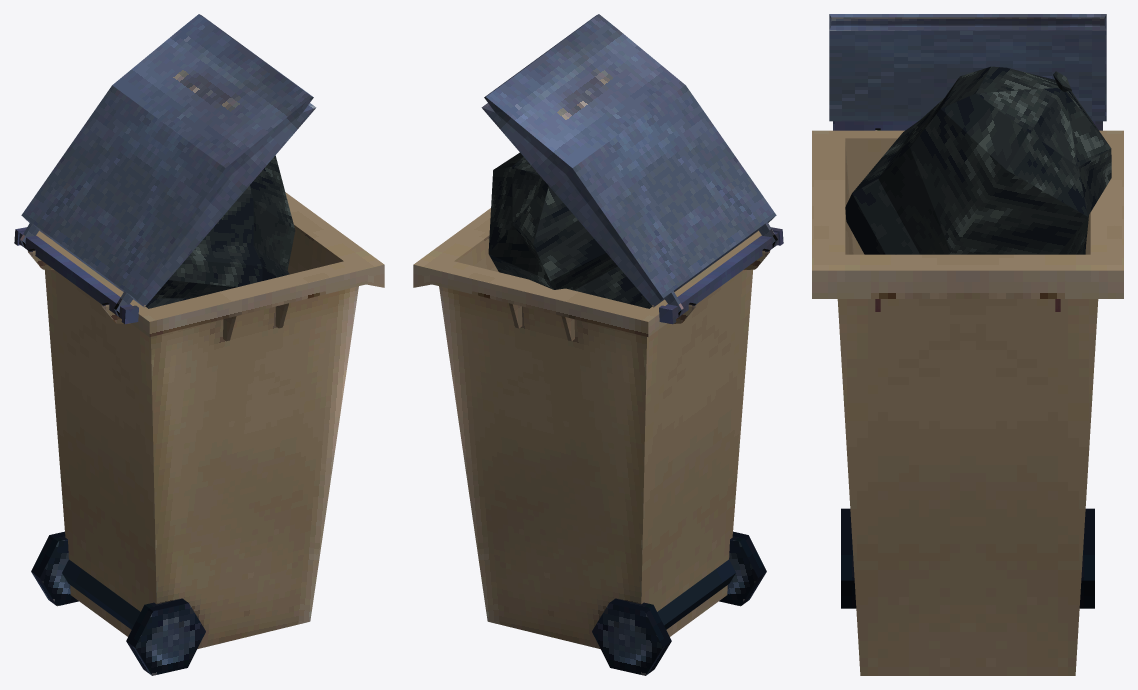
File: trash_can_overflowing.glb
The picture shows the model from 3 angles, left to right: view 1: azimuth 30°, elevation 25°; view 2: azimuth 150°, elevation 25°; view 3: azimuth 270°, elevation 25°; orthographic projection. The views are drawn at different scales.
Parts seen in each view (by area): view 1: trash_can_overflowing; view 2: trash_can_overflowing; view 3: trash_can_overflowing.
Boxes of the visible parts, x1,y1,x2,y2 form: trash_can_overflowing: (14, 14, 384, 675); trash_can_overflowing: (413, 14, 783, 675); trash_can_overflowing: (812, 14, 1123, 675).
Bounding box in the file's own units: 0.9 × 1.84 × 0.7794.
Materials: 3 (3 with a texture image).
